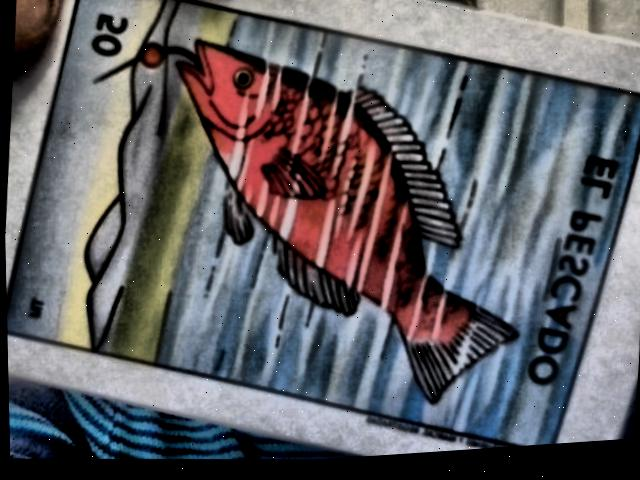El Pescado: (5, 0, 640, 453)
